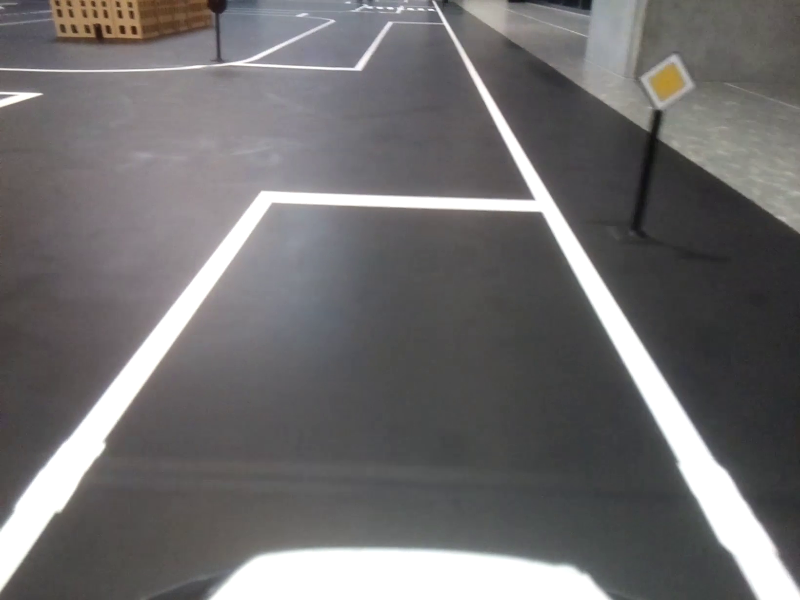priority: (640, 52, 697, 116)
